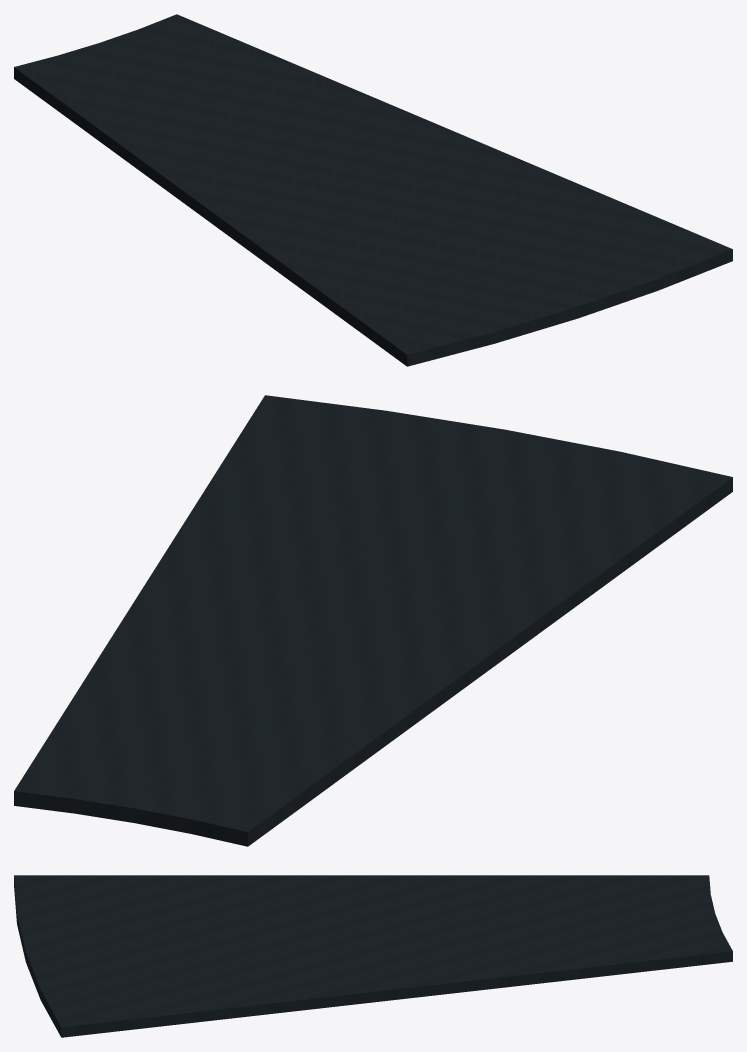
The model's file is Transit_Road_4L_Curve15_R18_Surface.glb.
3 views of the same model, one above another, from view 1: azimuth 30°, elevation 25°; view 2: azimuth 150°, elevation 25°; view 3: azimuth 270°, elevation 25° (orthographic). The views are drawn at different scales.
Visible parts, largest first — view 1: Transit_Road_4L_Curve15_R18_Surface; view 2: Transit_Road_4L_Curve15_R18_Surface; view 3: Transit_Road_4L_Curve15_R18_Surface.
Part boxes in pixels (x1,y1,x2,y2): Transit_Road_4L_Curve15_R18_Surface: (14,14,732,366); Transit_Road_4L_Curve15_R18_Surface: (14,395,732,846); Transit_Road_4L_Curve15_R18_Surface: (14,875,732,1037).
Bounding box in the file's own units: 6.21 × 0.2 × 12.41.
Materials: 1 (1 with a texture image).
